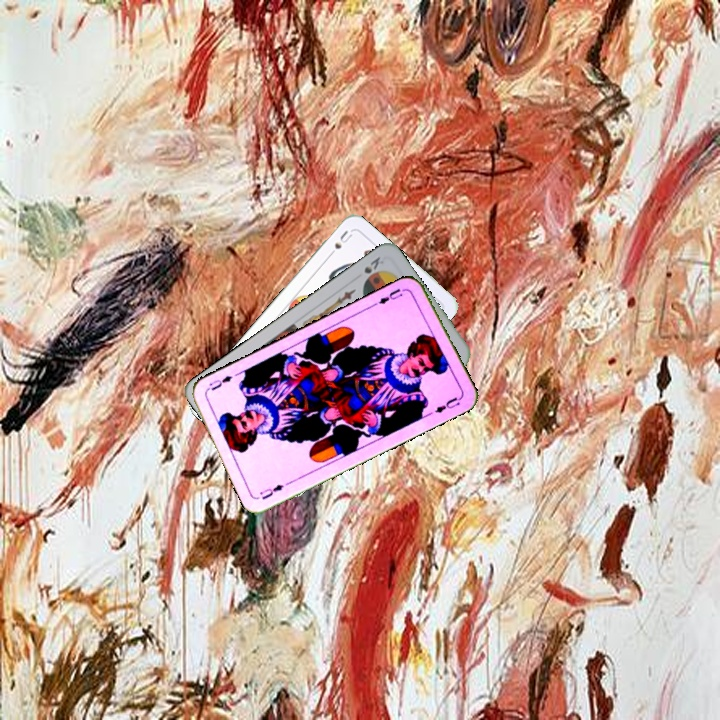EU: (374, 284, 408, 307), (255, 480, 286, 502)
SK: (360, 252, 386, 276)
SU: (324, 226, 355, 261)
